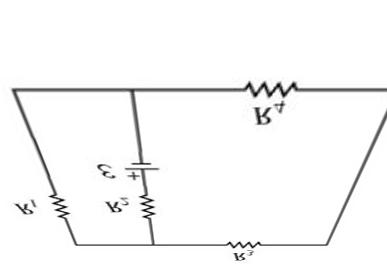resistor: (231, 70, 304, 98), (217, 228, 274, 249), (136, 187, 161, 230), (47, 178, 68, 228)
